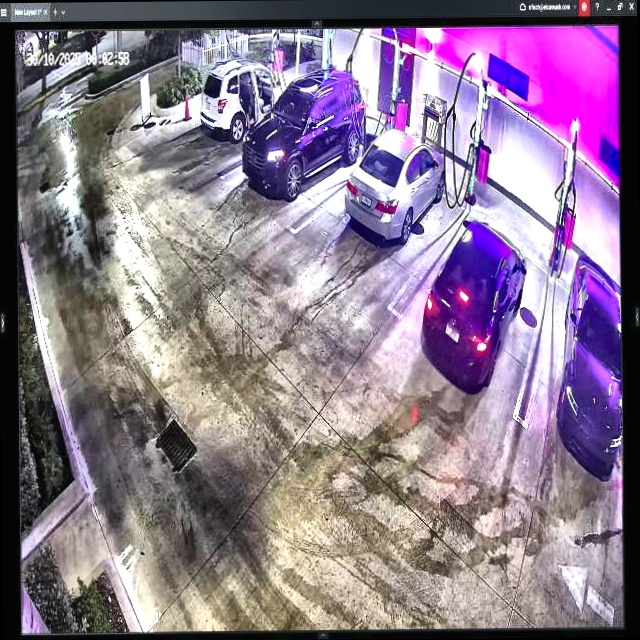Car: (421, 224, 529, 388), (241, 69, 367, 198), (343, 108, 446, 243)
